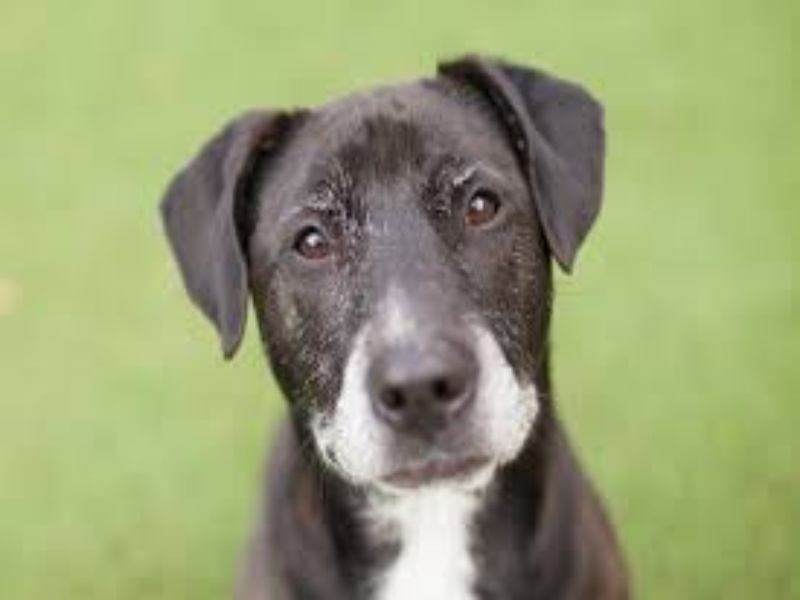dog: (90, 36, 730, 588)
